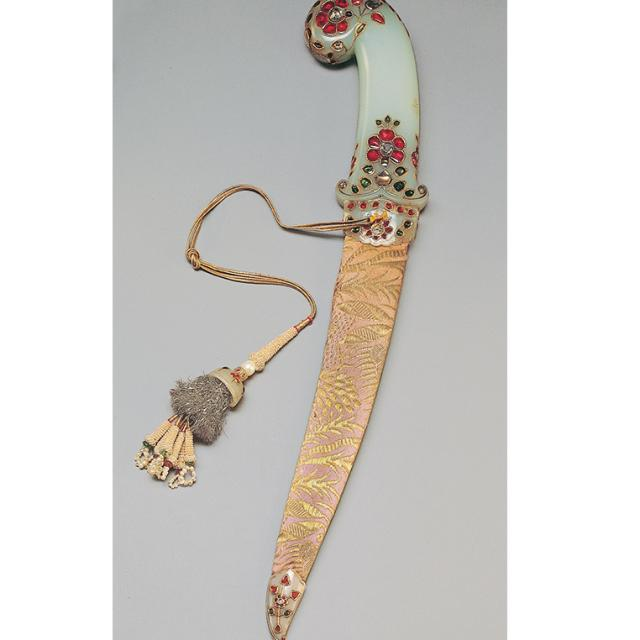Gun: (154, 0, 446, 631)
